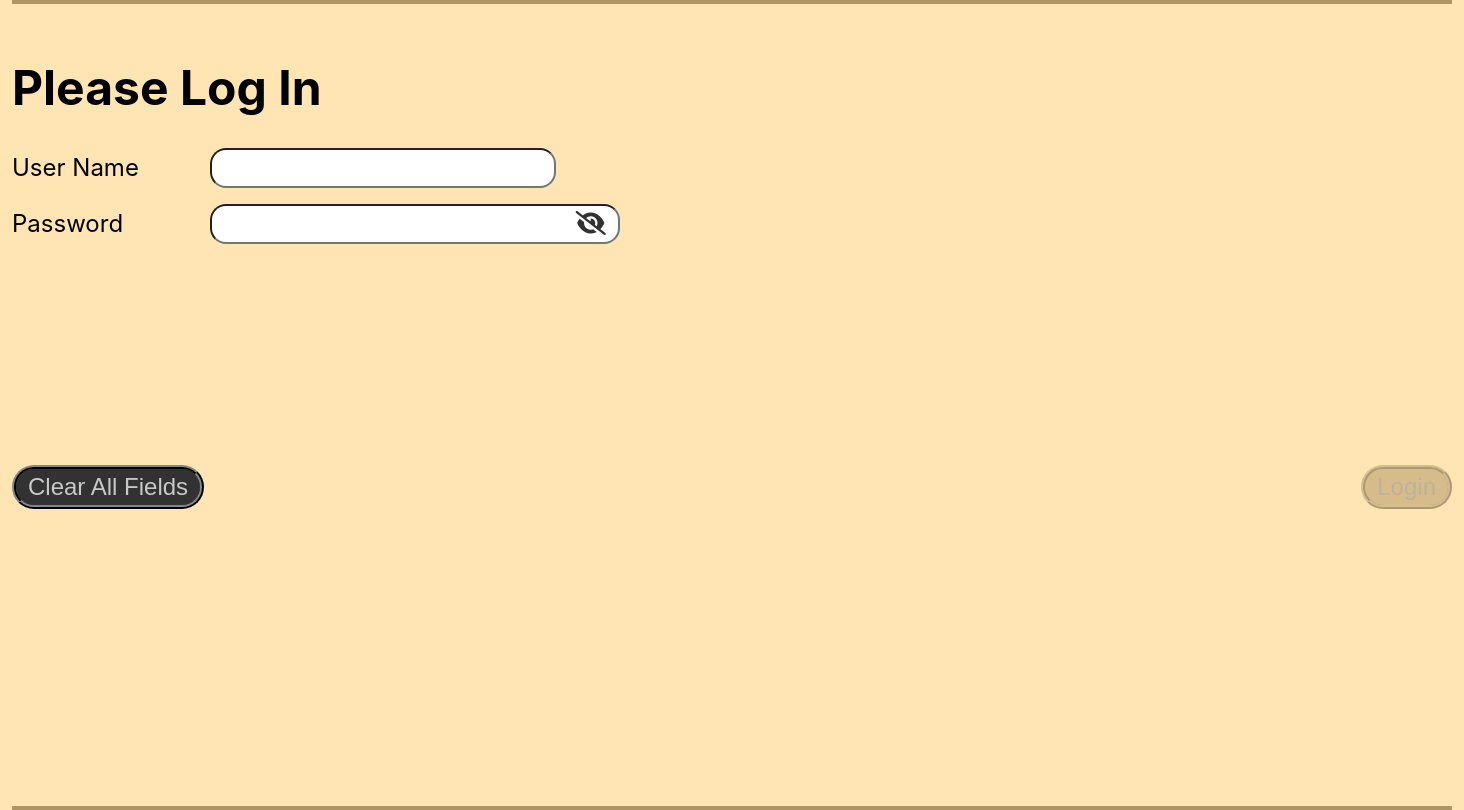
Test: should enable and disable the login button
Check: the button "Login" is disabled, box [1361,465,1452,509]
Type "herkimer" into the field labelled "User Name" at (383, 168), box [210,148,556,188]
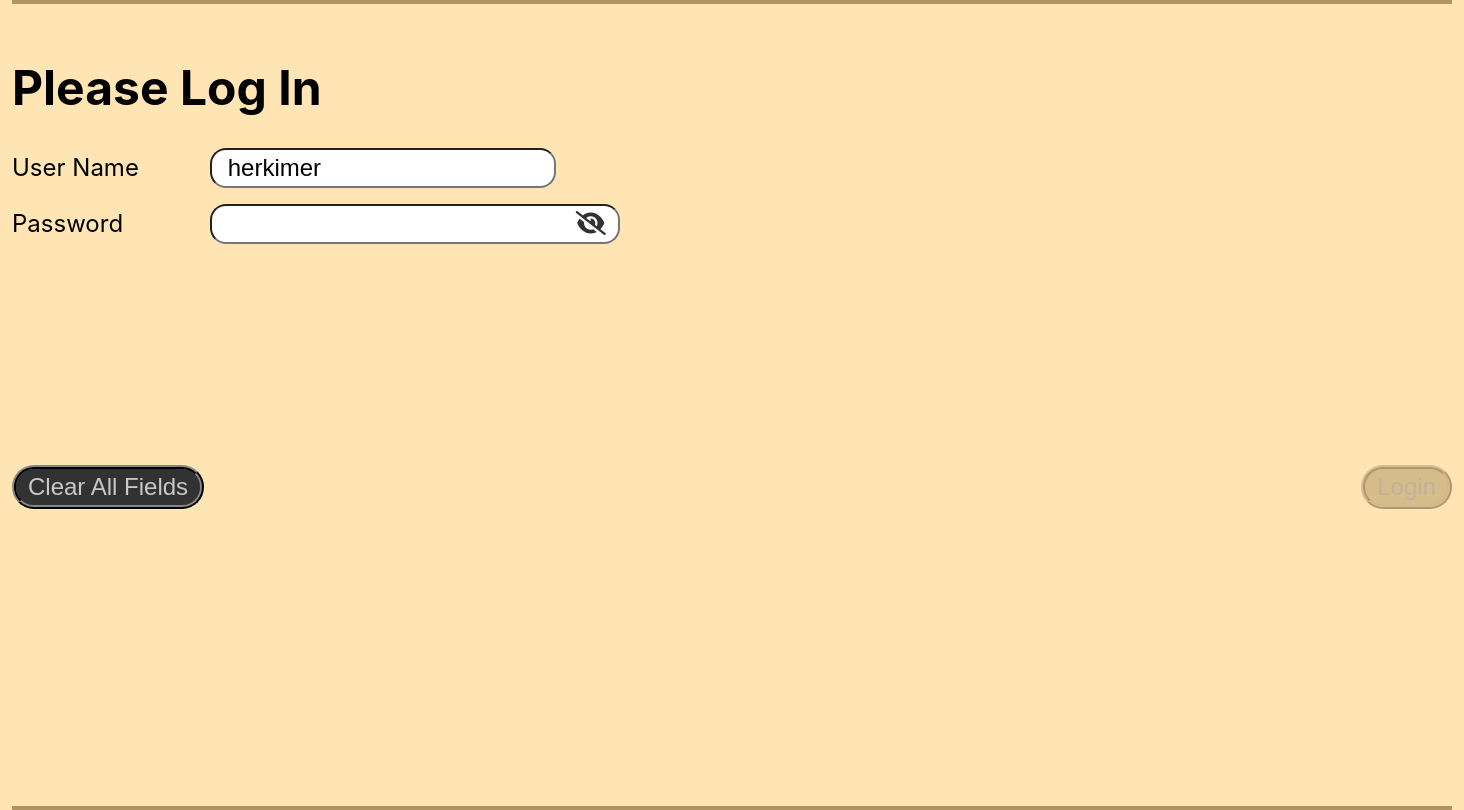
Check: the button "Login" is disabled, box [1361,465,1452,509]
Type "jones" into the password field labelled "Password" at (415, 224), box [210,204,620,244]
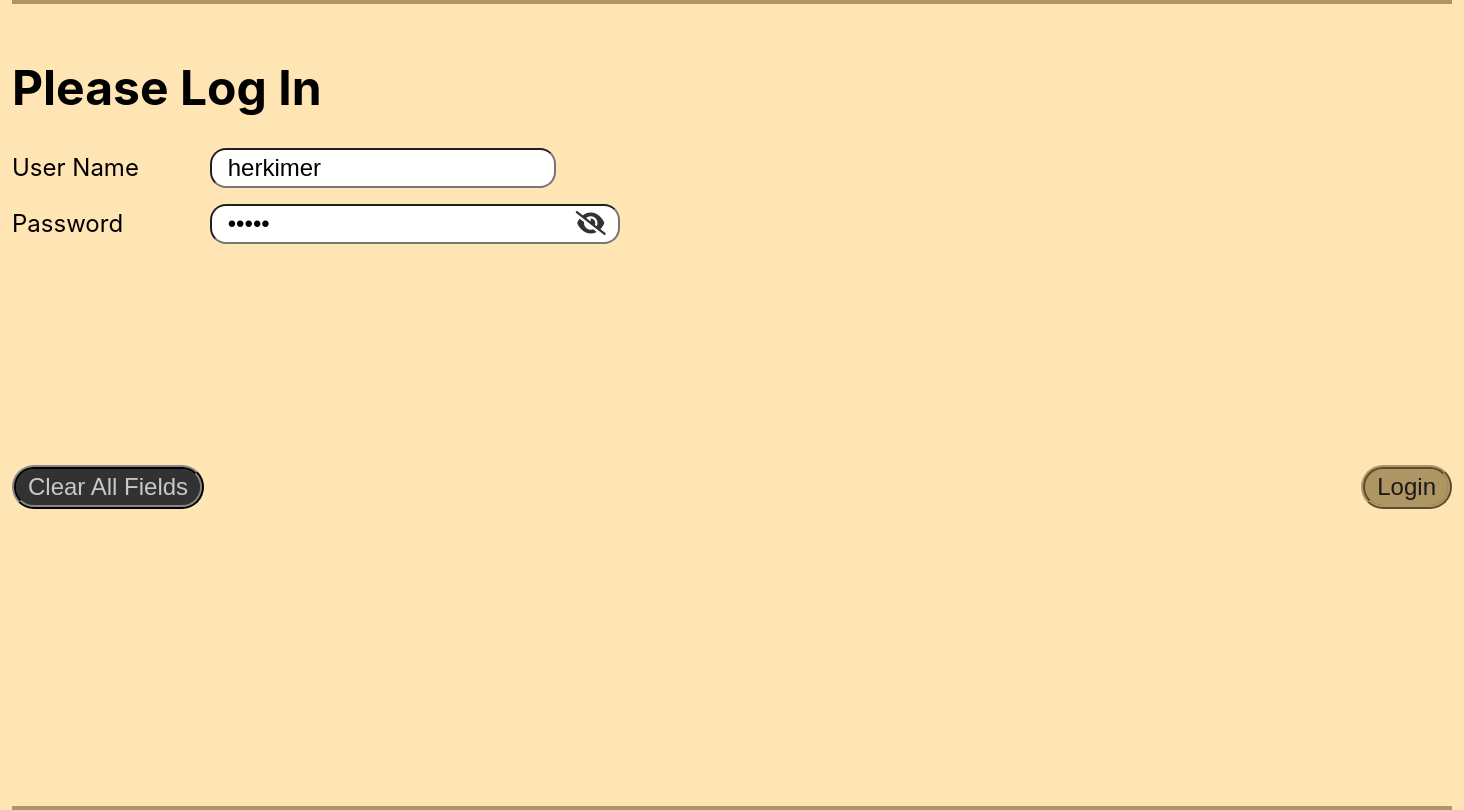
Check: the button "Login" is enabled, box [1361,465,1452,509]
